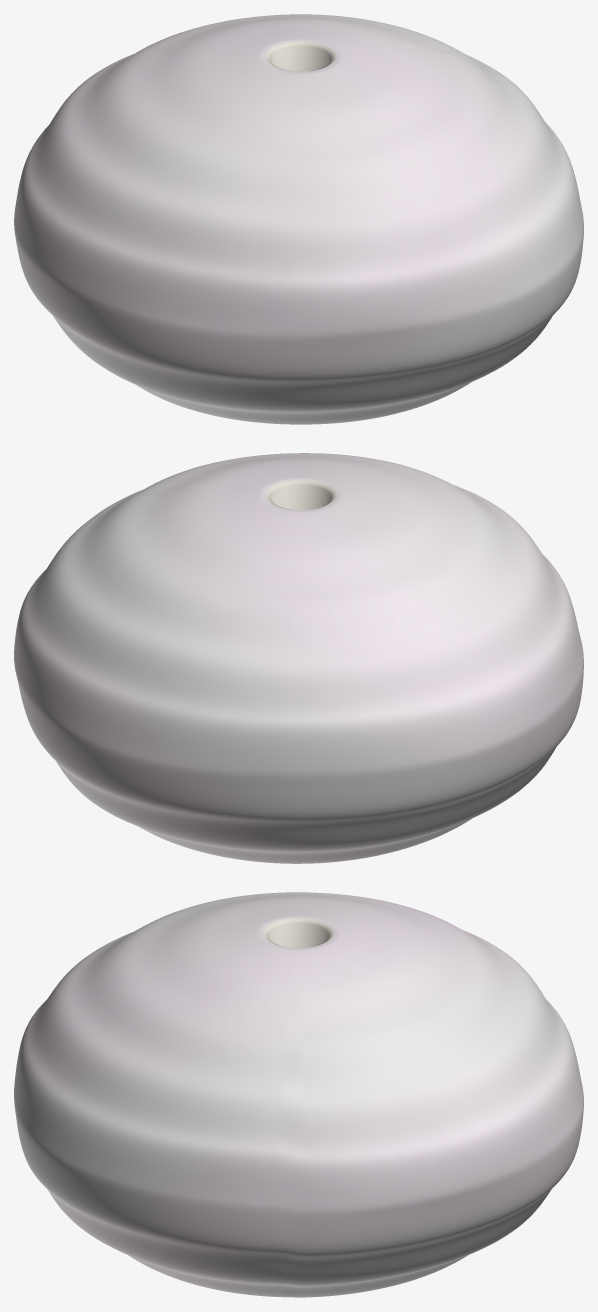
Rendered from pearl-ref-05.glb.
The picture shows the model from 3 angles, top to bottom: view 1: azimuth 30°, elevation 25°; view 2: azimuth 150°, elevation 25°; view 3: azimuth 270°, elevation 25°; orthographic projection.
Visible parts, largest first — view 1: pearl-ref-05; view 2: pearl-ref-05; view 3: pearl-ref-05.
Part boxes in pixels (x1=…): pearl-ref-05: x1=14, y1=14, x2=583, y2=424; pearl-ref-05: x1=14, y1=453, x2=583, y2=863; pearl-ref-05: x1=14, y1=892, x2=583, y2=1297.
Bounding box in the file's own units: 0.0075 × 0.00476 × 0.00761.
Materials: 2 (1 with a texture image).
